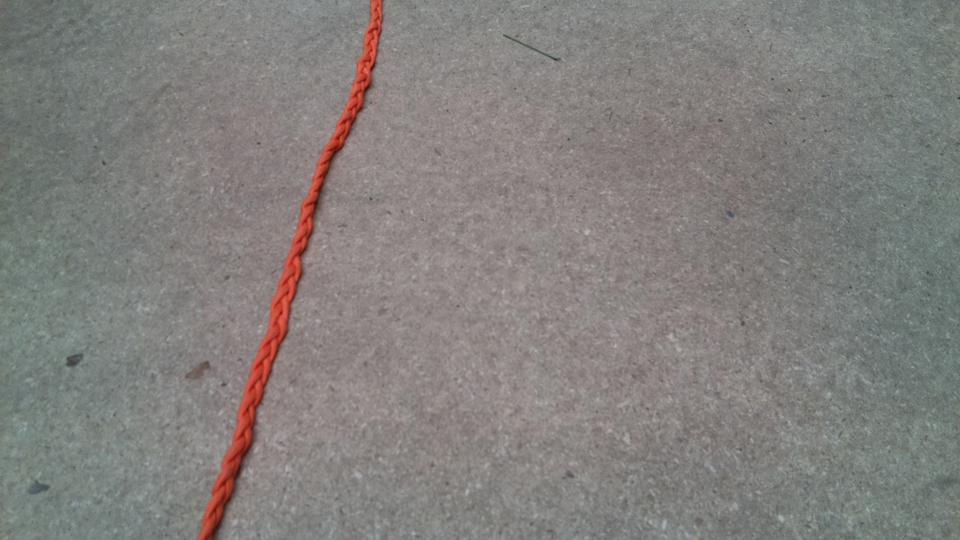rope: (192, 1, 388, 540)
